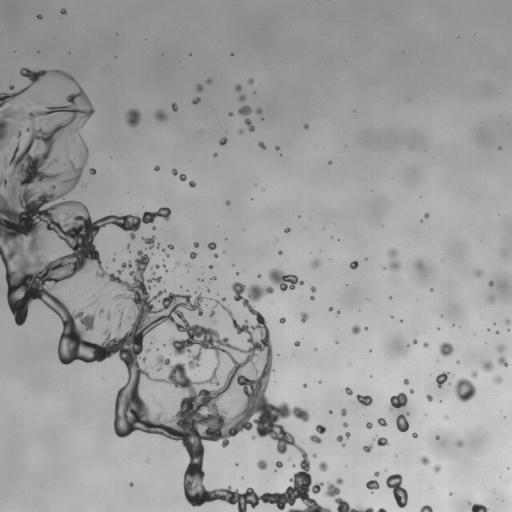droplet: (268, 268, 303, 291), (0, 108, 21, 142), (454, 378, 476, 402), (389, 392, 407, 410), (309, 424, 325, 443), (396, 412, 409, 432), (126, 109, 140, 127), (439, 342, 453, 356), (436, 372, 449, 387), (143, 236, 159, 248), (356, 394, 372, 405), (147, 271, 161, 283), (154, 110, 167, 121), (366, 480, 379, 491), (482, 360, 493, 371), (375, 437, 388, 446), (498, 355, 507, 366), (257, 460, 267, 469), (318, 461, 327, 471), (311, 259, 320, 268), (351, 325, 360, 334), (420, 456, 429, 465), (300, 312, 308, 322), (349, 261, 358, 269), (378, 418, 387, 426), (363, 444, 372, 452), (219, 137, 227, 145), (496, 344, 504, 352), (433, 464, 441, 472), (235, 84, 242, 92), (238, 94, 246, 101), (192, 97, 200, 104), (208, 242, 216, 249), (345, 387, 352, 395), (196, 84, 203, 91), (258, 142, 265, 149), (179, 174, 186, 181), (415, 261, 422, 268), (470, 371, 477, 378), (494, 376, 501, 383), (456, 440, 463, 447), (188, 181, 195, 187), (475, 270, 482, 276), (488, 295, 494, 302), (426, 394, 432, 401), (172, 103, 177, 111), (341, 408, 346, 416), (60, 8, 66, 14), (89, 168, 95, 174), (284, 227, 290, 233), (190, 252, 196, 258), (310, 286, 316, 292), (504, 318, 510, 324), (403, 378, 409, 384), (366, 422, 372, 428), (276, 461, 282, 467), (99, 308, 104, 315), (210, 308, 214, 316), (248, 78, 253, 84), (154, 165, 159, 171), (172, 169, 177, 175), (167, 244, 173, 249), (279, 318, 285, 323), (294, 341, 300, 346), (37, 14, 42, 19), (206, 78, 211, 83), (256, 108, 261, 113), (238, 129, 243, 134), (225, 200, 230, 205), (424, 213, 429, 218), (423, 342, 428, 347), (342, 422, 347, 427), (345, 432, 350, 437), (412, 433, 417, 438), (374, 471, 379, 476), (9, 85, 14, 89), (304, 124, 308, 129), (194, 242, 198, 247), (213, 253, 218, 257), (185, 263, 190, 267), (154, 264, 159, 268), (275, 146, 279, 150), (211, 276, 215, 280), (489, 281, 493, 285), (310, 296, 314, 300), (413, 339, 417, 343), (251, 435, 255, 439), (229, 112, 232, 116), (213, 153, 217, 156), (176, 262, 180, 265), (209, 265, 212, 269), (207, 288, 210, 292), (146, 349, 150, 352), (303, 383, 306, 387), (410, 389, 413, 393), (312, 454, 316, 457), (328, 161, 331, 164), (152, 226, 155, 229), (278, 251, 281, 254), (166, 253, 169, 256), (257, 274, 260, 277), (329, 307, 332, 310), (436, 436, 439, 439), (127, 245, 129, 249), (496, 330, 498, 334), (236, 272, 238, 275), (364, 327, 367, 329), (456, 361, 459, 363), (329, 411, 332, 413), (445, 415, 447, 418), (162, 249, 164, 251), (199, 279, 201, 281), (337, 311, 339, 313), (130, 483, 132, 485)
ligament: (0, 68, 331, 511), (325, 478, 374, 511), (386, 474, 407, 507), (238, 105, 254, 131), (388, 248, 400, 271), (470, 503, 488, 511), (117, 312, 123, 331), (88, 297, 100, 306), (0, 174, 7, 187), (337, 435, 345, 446), (420, 505, 433, 511), (106, 311, 110, 320), (377, 507, 386, 511), (163, 264, 167, 271)
